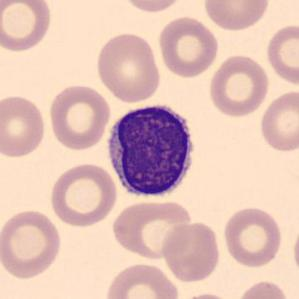Lymphocyte: (101, 98, 204, 204)
RBC: (110, 198, 196, 261), (94, 30, 162, 104), (47, 161, 119, 228), (0, 207, 64, 281), (46, 82, 112, 152), (206, 52, 271, 119), (221, 204, 284, 270), (156, 15, 220, 79), (160, 219, 223, 283), (0, 92, 47, 160), (103, 260, 180, 299), (0, 0, 54, 54), (257, 88, 298, 154), (264, 21, 298, 87), (202, 0, 272, 32), (234, 278, 292, 299), (120, 0, 186, 15), (172, 290, 237, 299), (291, 220, 299, 281)
